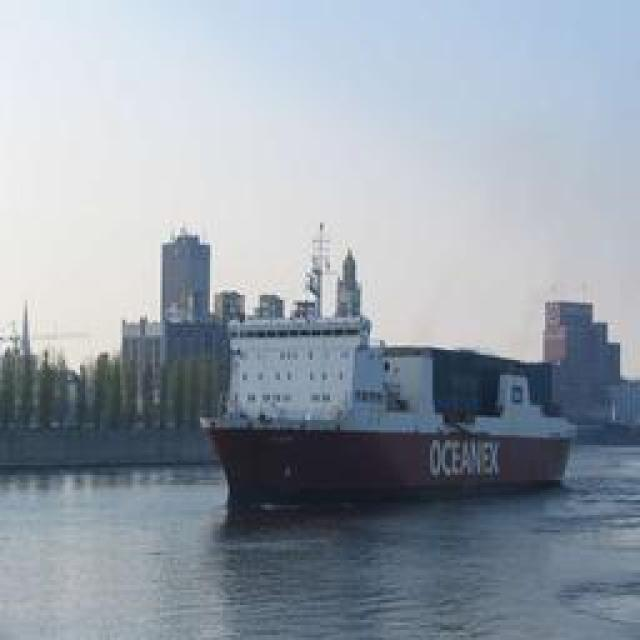CIV_Ship: (205, 216, 578, 512)
